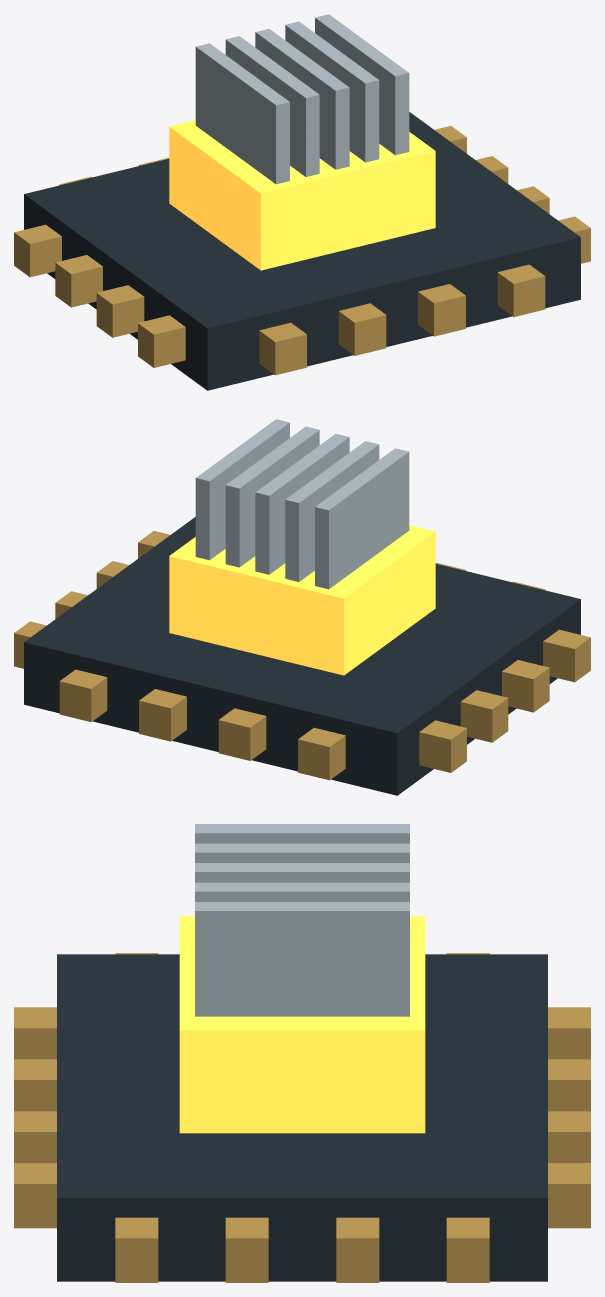
The model's file is plugin-speed-core.glb.
3 renders of one model, top to bottom at view 1: azimuth 30°, elevation 25°; view 2: azimuth 150°, elevation 25°; view 3: azimuth 270°, elevation 25°, orthographic. The views are drawn at different scales.
Visible parts, largest first — view 1: plugin circuit substrate, processor block, heatsink fin, heatsink fin.003, heatsink fin.004, heatsink fin.002, heatsink fin.001, gold edge connector.011, gold edge connector.009, gold edge connector, gold edge connector.010, gold edge connector.008 (+4 smaller); view 2: plugin circuit substrate, processor block, heatsink fin, heatsink fin.003, heatsink fin.004, heatsink fin.002, heatsink fin.001, gold edge connector.015, gold edge connector.013, gold edge connector.003, gold edge connector.014, gold edge connector.012 (+4 smaller); view 3: plugin circuit substrate, processor block, heatsink fin.004, heatsink fin, heatsink fin.001, heatsink fin.002, heatsink fin.003, gold edge connector.004, gold edge connector.005, gold edge connector.006, gold edge connector.007, gold edge connector.011 (+7 smaller).
Part boxes in pixels (bbox=[...]): plugin circuit substrate: bbox=[24, 112, 580, 390]; processor block: bbox=[169, 120, 435, 270]; heatsink fin: bbox=[195, 43, 289, 184]; heatsink fin.003: bbox=[285, 21, 379, 162]; heatsink fin.004: bbox=[315, 14, 409, 155]; heatsink fin.002: bbox=[255, 29, 349, 169]; heatsink fin.001: bbox=[225, 36, 319, 176]; gold edge connector.011: bbox=[497, 264, 545, 317]; gold edge connector.009: bbox=[338, 303, 386, 355]; gold edge connector: bbox=[138, 315, 185, 367]; gold edge connector.010: bbox=[418, 284, 465, 336]; gold edge connector.008: bbox=[259, 322, 306, 375]; plugin circuit substrate: bbox=[24, 517, 580, 795]; processor block: bbox=[169, 525, 435, 675]; heatsink fin: bbox=[315, 448, 409, 589]; heatsink fin.003: bbox=[225, 426, 319, 567]; heatsink fin.004: bbox=[195, 419, 289, 560]; heatsink fin.002: bbox=[255, 434, 349, 574]; heatsink fin.001: bbox=[285, 441, 379, 581]; gold edge connector.015: bbox=[59, 669, 107, 722]; gold edge connector.013: bbox=[218, 708, 266, 760]; gold edge connector.003: bbox=[419, 720, 466, 772]; gold edge connector.014: bbox=[139, 689, 186, 741]; gold edge connector.012: bbox=[298, 727, 345, 780]; plugin circuit substrate: bbox=[57, 954, 547, 1281]; processor block: bbox=[179, 916, 425, 1133]; heatsink fin.004: bbox=[195, 902, 409, 1016]; heatsink fin: bbox=[195, 824, 409, 843]; heatsink fin.001: bbox=[195, 843, 409, 862]; heatsink fin.002: bbox=[195, 863, 409, 882]; heatsink fin.003: bbox=[195, 882, 409, 901]; gold edge connector.004: bbox=[115, 1217, 158, 1282]; gold edge connector.005: bbox=[225, 1217, 268, 1282]; gold edge connector.006: bbox=[336, 1217, 379, 1282]; gold edge connector.007: bbox=[446, 1217, 489, 1282]; gold edge connector.011: bbox=[14, 1163, 56, 1228].
Size of the model in its own units: 1.1 by 0.525 by 0.94.
